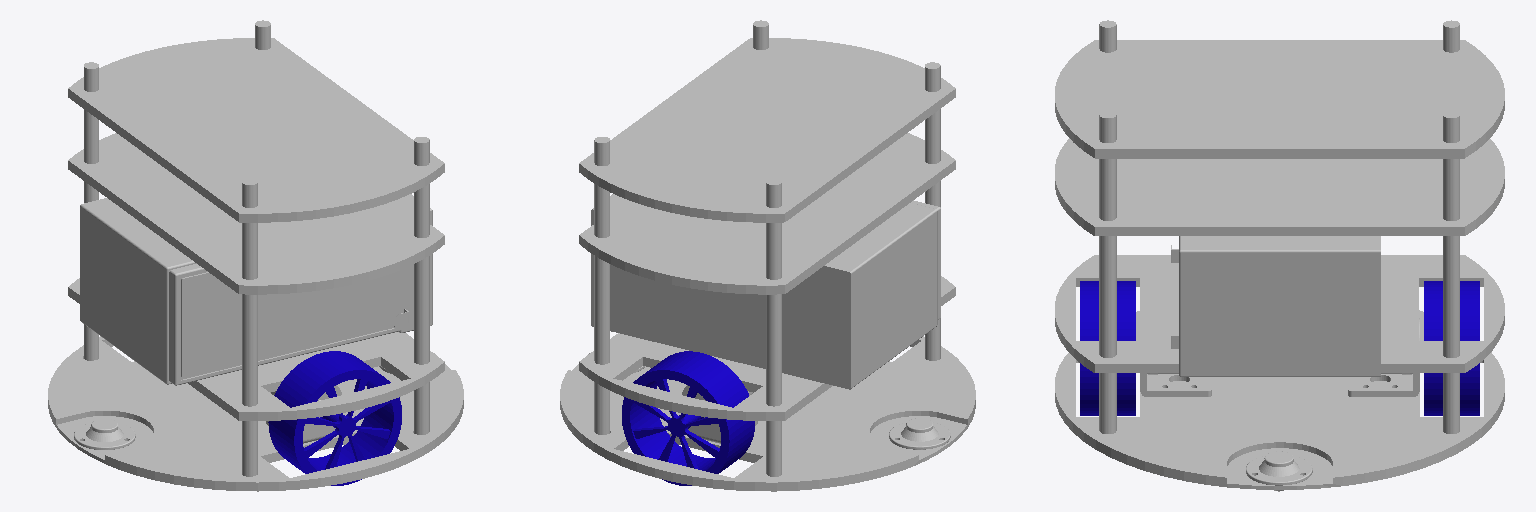
The robot description file, URDF, robot "penguin":
<?xml version="1.0"?>
<robot name="penguin">

    <gazebo>
        <plugin name="gazebo_ros_control" filename="libgazebo_ros_control.so">
                <robotNamespace>/penguin</robotNamespace>
                <!--robotSimType>gazebo_ros_control/DefaultRobotHWSim</robotSimType-->
                <legacyModeNS>true</legacyModeNS>
        </plugin>
    </gazebo>

<!--links-->

    <link name="base_footprint">
        <origin xyz="0.0 0.0 0.007" rpy="0.0 0.0 1.57079632679"/>
    </link>
    <link name="base_link">
        <inertial>
            <origin xyz="0.0 0.0 0.007" rpy="0.0 0.0 1.57079632679"/>
            <mass value="0.160"/>
            <inertia ixx="0.0069858" ixy="0.00003788" ixz="-0.000743414" iyy="0.0070844" iyz="-0.00030005" izz="0.0008453"/>
        </inertial>
        <visual name="">
            <origin xyz="0.0 0.0 0.007" rpy="0.0 0.0 1.57079632679"/>
            <geometry>
                <mesh filename="package://penguin_description/models/meshes/base.dae" />   
            </geometry>
        </visual>
        <collision>
            <origin xyz="0.0 0.0 0.007" rpy="0.0 0.0 1.57079632679"/>
            <geometry>
                <!--cylinder radius="0.105" length="0.005"/-->
                <mesh filename="package://penguin_description/models/meshes/base.dae" />
            </geometry>
        </collision>
    </link>
    <link name="imu_link">
        <inertial>
            <mass value="0.001"/>
            <origin xyz="0 0 0" rpy="0 0 0"/>
            <inertia ixx="0.0001" ixy="0" ixz="0"
                    iyy="0.000001" iyz="0"
                    izz="0.0001"/>
        </inertial>
    </link>

    <link name="LW_link">
        <visual>
            <origin xyz="0.0 0.0 0.0" rpy="0.0 0.0 0.0"/>
            <geometry>
                <mesh filename="package://penguin_description/models/meshes/wheels.dae" />
            </geometry>
        </visual>
        <collision>
            <origin xyz="0.0 0.0 0.0" rpy="0.0 0.0 0.0"/>
            <geometry>
                <mesh filename="package://penguin_description/models/meshes/wheels.dae" />
            </geometry>
        </collision>
        <inertial>
            <origin xyz="0.0 0.0 0.0" rpy="0.0 0.0 0.0"/>
            <mass value="0.0264"/>
            <inertia ixx="0.000016739" ixy="0.0" ixz="0.0" iyy="0.000016739" iyz="0.0" izz="0.000020597"/>
        </inertial>
    </link>

    <link name="RW_link">
        <visual>
            <origin xyz="0.0 0.0 0.0" rpy="0.0 0.0 0.0"/>
            <geometry>
                <mesh filename="package://penguin_description/models/meshes/wheels.dae" />
            </geometry>
        </visual>
        <collision>
            <origin xyz="0.0 0.0 0.0" rpy="0.0 0.0 0.0"/>
            <geometry>
                <mesh filename="package://penguin_description/models/meshes/wheels.dae" />
            </geometry>
        </collision>
        <inertial>
            <origin xyz="0.0 0.0 0.0" rpy="0.0 0.0 0.0"/>
            <mass value="0.0264"/>
            <inertia ixx="0.000016739" ixy="0.0" ixz="0.0" iyy="0.000016739" iyz="0.0" izz="0.000020597"/>
        </inertial>
    </link>

    <link name="TCW_link">
        <visual>
            <origin xyz="0.0 0.0 0.00" rpy="0.0 0.0 0.0"/>
            <geometry>
                <mesh filename="package://penguin_description/models/meshes/caster_wheels.dae" />
            </geometry>
        </visual>
        <collision>
            <origin xyz="0.0 0.0 0.01" rpy="0.0 0.0 0.0"/>
            <geometry>
                <!--mesh filename="package://penguin_description/models/meshes/caster_wheels.dae"/-->
                <!--cylinder radius="0.001" length="0.02"/-->
                <sphere radius="0.01"/>
            </geometry>
        </collision>
        <inertial>
            <origin xyz="0.0 0.0 0.0" rpy="0.0 0.0 0.0"/>
            <mass value="0.02965"/>
            <inertia ixx="0.00000131067" ixy="0.0" ixz="0.0" iyy="0.00000191824" iyz="0.0" izz="0.00000139735"/>
        </inertial>
    </link>

    <link name="DCW_link">
        <visual>
            <origin xyz="0.0 0.0 0.00" rpy="0.0 0.0 0.0"/>
            <geometry>
                <mesh filename="package://penguin_description/models/meshes/caster_wheels.dae" />
            </geometry>
        </visual>
        <collision>
            <origin xyz="0.0 0.0 0.01" rpy="0.0 0.0 0.0"/>
            <geometry>
                <!--mesh filename="package://penguin_description/models/meshes/caster_wheels.dae"/-->
                <!--cylinder radius="0.001" length="0.02"/-->
                <sphere radius="0.01"/>
            </geometry>
        </collision>
        <inertial>
            <origin xyz="0.0 0.0 0.0" rpy="0.0 0.0 0.0"/>
            <mass value="0.02965"/>
            <inertia ixx="0.00000131067" ixy="0.0" ixz="0.0" iyy="0.00000191824" iyz="0.0" izz="0.00000139735"/>
        </inertial>
    </link>
    <link name="upper_base_link">
        <visual name="">
            <origin xyz="0.0 0.0 0.0" rpy="0.0 0.0 0.0"/>
            <geometry>
                <mesh filename="package://penguin_description/models/meshes/upper_base.dae"/>
            </geometry>
        </visual>
        <inertial>
            <origin xyz="0.0 0.0 0.0" rpy="0.0 0.0 0.0"/>
            <mass value="1.51143"/>
            <inertia ixx="0.172784748" ixy="0.000573265" ixz="-0.01351310072" iyy="0.0174117895" iyz="-0.007081193" izz="0.00756976136"/>
        </inertial>
        <collision>
            <origin xyz="0.0 0.0 0.00" rpy="0.0 0.0 0.0"/>
            <geometry>
                <mesh filename="package://penguin_description/models/meshes/upper_base.dae" />
            </geometry>
        </collision>
    </link>
    <link name="kinect_link">
        <visual >
            <origin xyz="0.0 0.0 0.0" rpy="0.0 0.0 1.5707"/>
            <geometry>
                <mesh filename="package://penguin_description/models/meshes/kinect.dae" />
            </geometry>
        </visual>
        <collision>
            <origin xyz="0.0 0.0 0.0" rpy="0 0 1.5707"/>
  	        <geometry>
  	            <box size="0.07271 0.27794 0.073"/>
  	        </geometry>
  	    </collision>
        <inertial>
            <mass value="0.564" />
            <origin xyz="0 0 0" />
            <inertia ixx="0.003881243" ixy="0.0" ixz="0.0"
                 iyy="0.000498940" iyz="0.0"
                 izz="0.003879257" />
        </inertial>
    </link>

<!--joints-->
    <joint name="base_footprint_joint" type="fixed">
        <origin xyz="0.0 0.0 0.0" rpy="0.0 0.0 0.0"/>
        <parent link="base_footprint"/>
        <child link="base_link"/>
    </joint>
    <joint name="base_imu_joint" type="fixed">
        <axis xyz="0 1 0"/>
        <origin xyz="0.0 0.0 0.0" rpy="0.0 0.0 0.0"/>
        <parent link="base_link"/>
        <child link="imu_link"/>
    </joint>
    <joint name="LW_base_joint" type="continuous">
        <origin xyz="-0.004 0.08  0.0314" rpy="0.0 0.0 3.1404"/>
        <parent link="base_link"/>
        <child link="LW_link"/>
        <axis xyz="0.0 -1 0.0"/>
        <limit effort="100" velocity="100"/>
    </joint>
    <joint name="RW_base_joint" type="continuous">
        <origin xyz="-0.004 -0.08  0.0314" rpy="0.0 0.0 0.0"/>
        <parent link="base_link"/>
        <child link="RW_link"/>
        <axis xyz="0.0 1 0.0"/>
        <limit effort="100" velocity="100"/>   
    </joint>
    <joint name="TCW_base_joint" type="fixed">
        <origin xyz="-0.092 0.0  0.000" rpy="0.0 0.0 1.57079632679"/>
        <parent link="base_link"/>
        <child link="TCW_link"/>
    </joint>
    <joint name="DCW_base_joint" type="fixed">
        <origin xyz="0.085 0.0  0.000" rpy="0.0 0.0 1.57079632679"/>
        <parent link="base_link"/>
        <child link="DCW_link"/>
    </joint>
    <joint name="upper_base_joint" type="fixed">
        <origin xyz="-0.004 0.0  0.005" rpy="0.0 0.0 1.57079632679"/>
        <parent link="base_link"/>
        <child link="upper_base_link"/>
    </joint>
    <joint name="kinect_base_joint" type="fixed">
        <origin xyz="0.0 0.0 0.2" rpy="0.0 0.0 0.0"/>
        <parent link="camera_rgb_frame"/>
        <child link="kinect_link"/>
    </joint>
<!--friction and stiffness-->
      <gazebo reference="LW_link">
	    <mu1>20000000000.0</mu1>
	    <mu2>20000000000.0</mu2>
	    <kp>1000000.0</kp>
	    <kd>1.0</kd>
	  </gazebo>
	
	  <gazebo reference="RW_link">
	    <mu1>20000000000.0</mu1>
	    <mu2>20000000000.0</mu2>
	    <kp>1000000.0</kp>
	    <kd>1.0</kd>
	  </gazebo>
	  
	  <gazebo reference="TCW_link">
	    <mu1>0.0</mu1>
	    <mu2>0.0</mu2>
	    <kp>1000000.0</kp>
	    <kd>100.0</kd>
	  </gazebo>
	  
	  <gazebo reference="DCW_link">
	    <mu1>0.0</mu1>
	    <mu2>0.0</mu2>
	    <kp>1000000.0</kp>
	    <kd>100.0</kd>
	  </gazebo>

<!--transmissions-->
    <transmission name="left_wheel_transmission">
        <type>transmission_interface/SimpleTransmission</type>
        <joint name="LW_base_joint">
            <hardwareInterface>hardware_interface/VelocityJointInterface</hardwareInterface>  
        </joint>
        <actuator name="left_wheel_actuator">
            <mechanicalReduction>7</mechanicalReduction>
            <hardwareInterface>hardware_interface/VelocityJointInterface</hardwareInterface>
        </actuator>
    </transmission>
    
    <transmission name="right_wheel_transmission">
        <type>transmission_interface/SimpleTransmission</type>
        <joint name="RW_base_joint">
            <hardwareInterface>hardware_interface/VelocityJointInterface</hardwareInterface>  
        </joint>
        <actuator name="right_wheel_actuator">
            <mechanicalReduction>7</mechanicalReduction>
            <hardwareInterface>hardware_interface/VelocityJointInterface</hardwareInterface>
        </actuator>
    </transmission>
<!--sensors-->
    <gazebo reference="kinect_link">  
      <sensor type="depth" name="camera">
        <always_on>true</always_on>
        <update_rate>20.0</update_rate>
        <camera>
          <horizontal_fov>1.04719755</horizontal_fov>
          <image>
            <format>R8G8B8</format>
            <width>640</width>
            <height>480</height>
          </image>
          <clip>
            <near>0.05</near>
            <far>8.0</far>
          </clip>
        </camera>
        <plugin name="kinect_camera_controller" filename="libgazebo_ros_openni_kinect.so">
          <cameraName>camera</cameraName>
          <alwaysOn>true</alwaysOn>
          <updateRate>10</updateRate>
          <imageTopicName>rgb/image_raw</imageTopicName>
          <depthImageTopicName>depth/image_raw</depthImageTopicName>
          <pointCloudTopicName>depth/points</pointCloudTopicName>
          <cameraInfoTopicName>rgb/camera_info</cameraInfoTopicName>
          <depthImageCameraInfoTopicName>depth/camera_info</depthImageCameraInfoTopicName>
          <frameName>camera_depth_optical_frame</frameName>
          <baseline>0.1</baseline>
          <distortion_k1>0.0</distortion_k1>
          <distortion_k2>0.0</distortion_k2>
          <distortion_k3>0.0</distortion_k3>
          <distortion_t1>0.0</distortion_t1>
          <distortion_t2>0.0</distortion_t2>
          <pointCloudCutoff>0.4</pointCloudCutoff>
        </plugin>
      </sensor>
    </gazebo>
    <gazebo>
        <plugin name="gazebo_ros_imu_controller" filename="libgazebo_ros_imu.so">
            <!-- <robotNamespace></robotNamespace> -->
            <topicName>imu/data</topicName>
            <serviceName>imu/service</serviceName>
            <bodyName>base_link</bodyName>
            <gaussianNoise>0</gaussianNoise>
            <rpyOffsets>0 0 0</rpyOffsets>
            <updateRate>30.0</updateRate>
            <alwaysOn>true</alwaysOn>
            <gaussianNoise>0</gaussianNoise>
        </plugin>
    </gazebo>
<!--kinect frames--> 
 <joint name="camera_rgb_joint" type="fixed">
    <origin rpy="0 0 0" xyz="0 0 0"/>
    <parent link="base_link"/>
    <child link="camera_rgb_frame"/>
  </joint>
  <link name="camera_rgb_frame"/>
        
  
  <joint name="camera_rgb_optical_joint" type="fixed">
      <origin xyz="0 0 0" rpy="-1.5707 0 -1.5707" />
      <parent link="camera_rgb_frame" />
      <child link="camera_rgb_optical_frame" />
    </joint>
    <link name="camera_rgb_optical_frame"/>



    

    <joint name="camera_depth_joint" type="fixed">
	  <origin xyz="0 0.0 0" rpy="0 0 0" />
	  <parent link="camera_rgb_frame" />
	  <child link="camera_depth_frame" />
	</joint>
	<link name="camera_depth_frame"/>




    <joint name="camera_depth_optical_joint" type="fixed">
	  <origin xyz="0 0 0.2" rpy="-1.5707 0 -1.5707" />
	  <parent link="camera_depth_frame" />
	  <child link="camera_depth_optical_frame" />
	</joint>
	<link name="camera_depth_optical_frame"/>

</robot>

--- What the picture shows (computed from the rendered views, not written in the file) ---
3 views of the same robot in one strip: view 1: azimuth 30°, elevation 25°; view 2: azimuth 150°, elevation 25°; view 3: azimuth 270°, elevation 25° (orthographic).
Model penguin with 13 links and 12 joints (2 continuous, 10 fixed), rooted at base_footprint, posed every joint at zero.
Visible links, largest first — view 1: upper_base_link, base_link, RW_link, TCW_link; view 2: upper_base_link, base_link, LW_link, TCW_link; view 3: upper_base_link, base_link, LW_link, RW_link, DCW_link.
Boxes of the visible links, x1=… form: upper_base_link: x1=68, y1=20, x2=444, y2=476; base_link: x1=48, y1=336, x2=463, y2=491; RW_link: x1=268, y1=351, x2=401, y2=485; TCW_link: x1=74, y1=419, x2=135, y2=449; upper_base_link: x1=579, y1=20, x2=955, y2=476; base_link: x1=560, y1=336, x2=975, y2=491; LW_link: x1=622, y1=351, x2=754, y2=485; TCW_link: x1=889, y1=418, x2=950, y2=449; upper_base_link: x1=1055, y1=20, x2=1504, y2=433; base_link: x1=1055, y1=310, x2=1504, y2=489; LW_link: x1=1424, y1=281, x2=1479, y2=415; RW_link: x1=1080, y1=281, x2=1135, y2=415; DCW_link: x1=1246, y1=451, x2=1312, y2=491.
Size in the robot's own frame: 0.2099 by 0.21 by 0.175 metres.
6 mesh visuals loaded from 5 distinct referenced files (4 Collada DAE); not drawn: 1 (reference not matched to a file when rendering).
